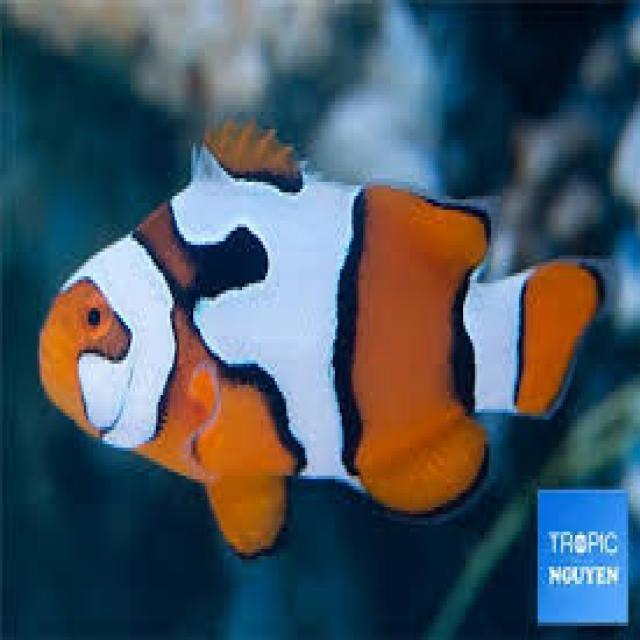ClownFish: (34, 117, 604, 562)
